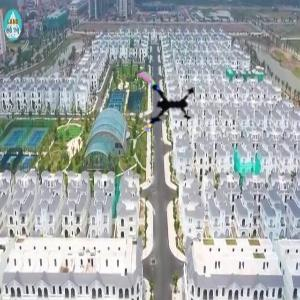drone: (130, 71, 200, 141)
